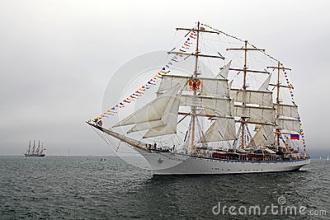fanchuan: (74, 21, 323, 174), (20, 131, 52, 163)
